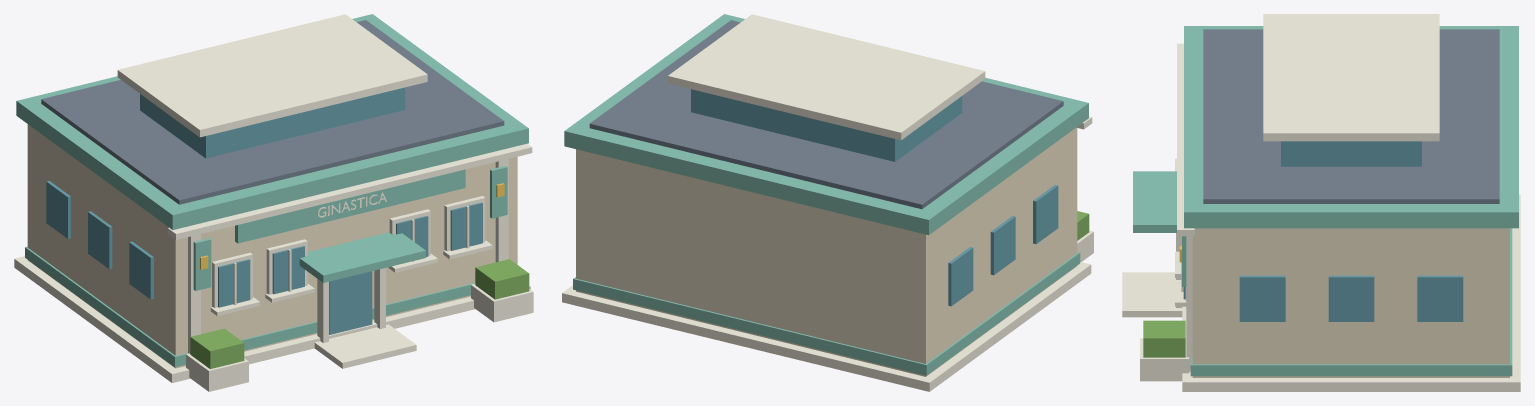
Rendered from ginastica.glb.
The picture shows the model from 3 angles, left to right: view 1: azimuth 30°, elevation 25°; view 2: azimuth 150°, elevation 25°; view 3: azimuth 270°, elevation 25°; orthographic projection. The views are drawn at different scales.
Visible parts, largest first — view 1: Foundation; view 2: Foundation; view 3: Foundation.
Part boxes in pixels (<box>): Foundation: <box>14,14,533,391</box>; Foundation: <box>562,14,1093,391</box>; Foundation: <box>1122,14,1520,391</box>.
Bounding box in the file's own units: 12.6 × 7.03 × 11.3.
